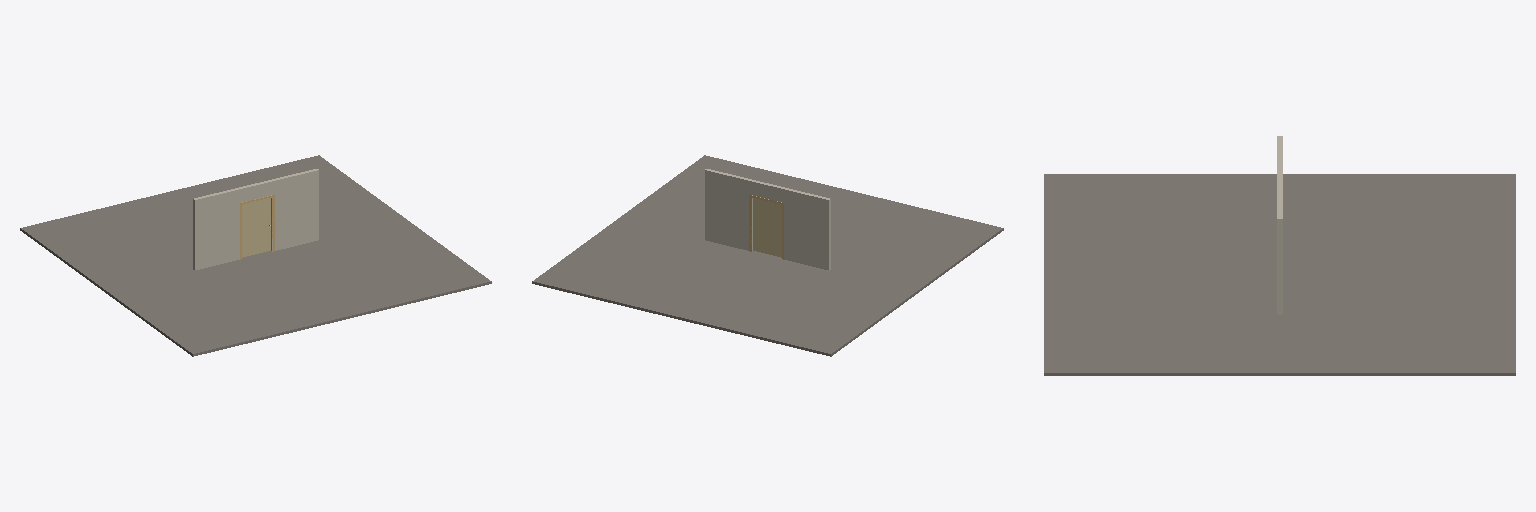
URDF robot description (db0249_accordion_full):
<?xml version="1.0" ?>
<robot xmlns:doorbench="https://github.com/adamraudonis/DoorBench/schema/urdf-ext" name="db0249_accordion_full">
  <link name="world_env">
    <visual name="floor_vis">
      <origin xyz="0 0 -0.05" rpy="0 0 0"/>
      <geometry>
        <box size="12 12 0.1"/>
      </geometry>
      <material name="mat_floor"/>
    </visual>
    <collision name="floor_col">
      <origin xyz="0 0 -0.05" rpy="0 0 0"/>
      <geometry>
        <box size="12 12 0.1"/>
      </geometry>
    </collision>
    <visual name="wall_left_vis">
      <origin xyz="-1.55825 0 1.35" rpy="0 0 0"/>
      <geometry>
        <box size="1.8835 0.145 2.7"/>
      </geometry>
      <material name="mat_wall"/>
    </visual>
    <collision name="wall_left_col">
      <origin xyz="-1.55825 0 1.35" rpy="0 0 0"/>
      <geometry>
        <box size="1.8835 0.145 2.7"/>
      </geometry>
    </collision>
    <visual name="wall_right_vis">
      <origin xyz="1.55825 0 1.35" rpy="0 0 0"/>
      <geometry>
        <box size="1.8835 0.145 2.7"/>
      </geometry>
      <material name="mat_wall"/>
    </visual>
    <collision name="wall_right_col">
      <origin xyz="1.55825 0 1.35" rpy="0 0 0"/>
      <geometry>
        <box size="1.8835 0.145 2.7"/>
      </geometry>
    </collision>
    <visual name="wall_header_vis">
      <origin xyz="0 0 2.3935" rpy="0 0 0"/>
      <geometry>
        <box size="1.233 0.145 0.613"/>
      </geometry>
      <material name="mat_wall"/>
    </visual>
    <collision name="wall_header_col">
      <origin xyz="0 0 2.3935" rpy="0 0 0"/>
      <geometry>
        <box size="1.233 0.145 0.613"/>
      </geometry>
    </collision>
    <visual name="jamb_hinge_vis">
      <origin xyz="-0.626 0 1.0435" rpy="0 0 0"/>
      <geometry>
        <box size="0.019 0.145 2.087"/>
      </geometry>
      <material name="mat_frame"/>
    </visual>
    <collision name="jamb_hinge_col">
      <origin xyz="-0.626 0 1.0435" rpy="0 0 0"/>
      <geometry>
        <box size="0.019 0.145 2.087"/>
      </geometry>
    </collision>
    <visual name="jamb_strike_vis">
      <origin xyz="0.626 0 1.0435" rpy="0 0 0"/>
      <geometry>
        <box size="0.019 0.145 2.087"/>
      </geometry>
      <material name="mat_frame"/>
    </visual>
    <collision name="jamb_strike_col">
      <origin xyz="0.626 0 1.0435" rpy="0 0 0"/>
      <geometry>
        <box size="0.019 0.145 2.087"/>
      </geometry>
    </collision>
    <visual name="stud_strike_vis">
      <origin xyz="0.6505 0 1.0435" rpy="0 0 0"/>
      <geometry>
        <box size="0.03 0.145 2.087"/>
      </geometry>
      <material name="mat_wall"/>
    </visual>
    <collision name="stud_strike_col">
      <origin xyz="0.6505 0 1.0435" rpy="0 0 0"/>
      <geometry>
        <box size="0.03 0.145 2.087"/>
      </geometry>
    </collision>
    <visual name="jamb_head_vis">
      <origin xyz="0.015 0 2.0965" rpy="0 0 0"/>
      <geometry>
        <box size="1.301 0.145 0.019"/>
      </geometry>
      <material name="mat_frame"/>
    </visual>
    <collision name="jamb_head_col">
      <origin xyz="0.015 0 2.0965" rpy="0 0 0"/>
      <geometry>
        <box size="1.301 0.145 0.019"/>
      </geometry>
    </collision>
    <visual name="head_stud_vis">
      <origin xyz="0.015 0 2.121" rpy="0 0 0"/>
      <geometry>
        <box size="1.301 0.145 0.03"/>
      </geometry>
      <material name="mat_wall"/>
    </visual>
    <collision name="head_stud_col">
      <origin xyz="0.015 0 2.121" rpy="0 0 0"/>
      <geometry>
        <box size="1.301 0.145 0.03"/>
      </geometry>
    </collision>
    <visual name="casing_l_n_vis">
      <origin xyz="-0.6655 -0.0805 1.0435" rpy="0 0 0"/>
      <geometry>
        <box size="0.07 0.016 2.106"/>
      </geometry>
      <material name="mat_frame"/>
    </visual>
    <visual name="casing_r_n_vis">
      <origin xyz="0.6655 -0.0805 1.0435" rpy="0 0 0"/>
      <geometry>
        <box size="0.07 0.016 2.106"/>
      </geometry>
      <material name="mat_frame"/>
    </visual>
    <visual name="casing_h_n_vis">
      <origin xyz="0 -0.0805 2.136" rpy="0 0 0"/>
      <geometry>
        <box size="1.401 0.016 0.07"/>
      </geometry>
      <material name="mat_frame"/>
    </visual>
    <visual name="casing_l_p_vis">
      <origin xyz="-0.6655 0.0805 1.0435" rpy="0 0 0"/>
      <geometry>
        <box size="0.07 0.016 2.106"/>
      </geometry>
      <material name="mat_frame"/>
    </visual>
    <visual name="casing_r_p_vis">
      <origin xyz="0.6655 0.0805 1.0435" rpy="0 0 0"/>
      <geometry>
        <box size="0.07 0.016 2.106"/>
      </geometry>
      <material name="mat_frame"/>
    </visual>
    <visual name="casing_h_p_vis">
      <origin xyz="0 0.0805 2.136" rpy="0 0 0"/>
      <geometry>
        <box size="1.401 0.016 0.07"/>
      </geometry>
      <material name="mat_frame"/>
    </visual>
    <visual name="fold_track_vis">
      <origin xyz="0 0 2.072" rpy="0 0 0"/>
      <geometry>
        <box size="1.233 0.04 0.03"/>
      </geometry>
      <material name="mat_track"/>
    </visual>
  </link>
  <link name="panel_0_0">
    <inertial>
      <origin xyz="0.026999 0 1.054532" rpy="0 0 0"/>
      <mass value="2.596771"/>
      <inertia ixx="0.925279629" ixy="0" ixz="0.001299257" iyy="0.928093869" iyz="0" izz="0.002876941"/>
    </inertial>
    <visual name="panel_0_0_slab_vis">
      <origin xyz="0.0275 0 1.036" rpy="0 0 0"/>
      <geometry>
        <box size="0.115 0.012 2.032"/>
      </geometry>
      <material name="mat_panel_0_0"/>
    </visual>
    <collision name="panel_0_0_slab_col">
      <origin xyz="0.0275 0 1.036" rpy="0 0 0"/>
      <geometry>
        <box size="0.115 0.012 2.032"/>
      </geometry>
    </collision>
    <visual name="panel_0_0_pivot_pin_vis">
      <origin xyz="0 0 2.0525" rpy="0 0 0"/>
      <geometry>
        <cylinder radius="0.008" length="0.021"/>
      </geometry>
      <material name="mat_hinge"/>
    </visual>
  </link>
  <link name="panel_0_1">
    <inertial>
      <origin xyz="0.000174 -0.000017 1.036" rpy="0 0 0"/>
      <mass value="2.77886"/>
      <inertia ixx="0.937503503" ixy="0.000002896" ixz="0" iyy="0.937541771" iyz="0" izz="0.000067084"/>
    </inertial>
    <visual name="panel_0_1_slab_vis">
      <origin xyz="0.061 -0.006 1.036" rpy="0 0 0"/>
      <geometry>
        <box size="0.118 0.012 2.032"/>
      </geometry>
      <material name="mat_panel_0_1"/>
    </visual>
    <collision name="panel_0_1_slab_col">
      <origin xyz="0.061 -0.006 1.036" rpy="0 0 0"/>
      <geometry>
        <box size="0.118 0.012 2.032"/>
      </geometry>
    </collision>
    <visual name="panel_0_1_knuckle_vis">
      <origin xyz="0 0 1.036" rpy="0 0 0"/>
      <geometry>
        <cylinder radius="0.0045" length="2.012"/>
      </geometry>
      <material name="mat_hinge"/>
    </visual>
  </link>
  <link name="panel_0_2">
    <inertial>
      <origin xyz="0.000174 0.000017 1.036" rpy="0 0 0"/>
      <mass value="2.77886"/>
      <inertia ixx="0.937503503" ixy="-0.000002896" ixz="0" iyy="0.937541771" iyz="0" izz="0.000067084"/>
    </inertial>
    <visual name="panel_0_2_slab_vis">
      <origin xyz="0.061 0.006 1.036" rpy="0 0 0"/>
      <geometry>
        <box size="0.118 0.012 2.032"/>
      </geometry>
      <material name="mat_panel_0_2"/>
    </visual>
    <collision name="panel_0_2_slab_col">
      <origin xyz="0.061 0.006 1.036" rpy="0 0 0"/>
      <geometry>
        <box size="0.118 0.012 2.032"/>
      </geometry>
    </collision>
    <visual name="panel_0_2_knuckle_vis">
      <origin xyz="0 0 1.036" rpy="0 0 0"/>
      <geometry>
        <cylinder radius="0.0045" length="2.012"/>
      </geometry>
      <material name="mat_hinge"/>
    </visual>
  </link>
  <link name="panel_0_3">
    <inertial>
      <origin xyz="0.000174 -0.000017 1.036" rpy="0 0 0"/>
      <mass value="2.77886"/>
      <inertia ixx="0.937503503" ixy="0.000002896" ixz="0" iyy="0.937541771" iyz="0" izz="0.000067084"/>
    </inertial>
    <visual name="panel_0_3_slab_vis">
      <origin xyz="0.061 -0.006 1.036" rpy="0 0 0"/>
      <geometry>
        <box size="0.118 0.012 2.032"/>
      </geometry>
      <material name="mat_panel_0_3"/>
    </visual>
    <collision name="panel_0_3_slab_col">
      <origin xyz="0.061 -0.006 1.036" rpy="0 0 0"/>
      <geometry>
        <box size="0.118 0.012 2.032"/>
      </geometry>
    </collision>
    <visual name="panel_0_3_knuckle_vis">
      <origin xyz="0 0 1.036" rpy="0 0 0"/>
      <geometry>
        <cylinder radius="0.0045" length="2.012"/>
      </geometry>
      <material name="mat_hinge"/>
    </visual>
  </link>
  <link name="panel_0_4">
    <inertial>
      <origin xyz="0.000174 0.000017 1.036" rpy="0 0 0"/>
      <mass value="2.77886"/>
      <inertia ixx="0.937503503" ixy="-0.000002896" ixz="0" iyy="0.937541771" iyz="0" izz="0.000067084"/>
    </inertial>
    <visual name="panel_0_4_slab_vis">
      <origin xyz="0.061 0.006 1.036" rpy="0 0 0"/>
      <geometry>
        <box size="0.118 0.012 2.032"/>
      </geometry>
      <material name="mat_panel_0_4"/>
    </visual>
    <collision name="panel_0_4_slab_col">
      <origin xyz="0.061 0.006 1.036" rpy="0 0 0"/>
      <geometry>
        <box size="0.118 0.012 2.032"/>
      </geometry>
    </collision>
    <visual name="panel_0_4_knuckle_vis">
      <origin xyz="0 0 1.036" rpy="0 0 0"/>
      <geometry>
        <cylinder radius="0.0045" length="2.012"/>
      </geometry>
      <material name="mat_hinge"/>
    </visual>
  </link>
  <link name="panel_0_5">
    <inertial>
      <origin xyz="0.000174 -0.000017 1.036" rpy="0 0 0"/>
      <mass value="2.77886"/>
      <inertia ixx="0.937503503" ixy="0.000002896" ixz="0" iyy="0.937541771" iyz="0" izz="0.000067084"/>
    </inertial>
    <visual name="panel_0_5_slab_vis">
      <origin xyz="0.061 -0.006 1.036" rpy="0 0 0"/>
      <geometry>
        <box size="0.118 0.012 2.032"/>
      </geometry>
      <material name="mat_panel_0_5"/>
    </visual>
    <collision name="panel_0_5_slab_col">
      <origin xyz="0.061 -0.006 1.036" rpy="0 0 0"/>
      <geometry>
        <box size="0.118 0.012 2.032"/>
      </geometry>
    </collision>
    <visual name="panel_0_5_knuckle_vis">
      <origin xyz="0 0 1.036" rpy="0 0 0"/>
      <geometry>
        <cylinder radius="0.0045" length="2.012"/>
      </geometry>
      <material name="mat_hinge"/>
    </visual>
  </link>
  <link name="panel_0_6">
    <inertial>
      <origin xyz="0.000174 0.000017 1.036" rpy="0 0 0"/>
      <mass value="2.77886"/>
      <inertia ixx="0.937503503" ixy="-0.000002896" ixz="0" iyy="0.937541771" iyz="0" izz="0.000067084"/>
    </inertial>
    <visual name="panel_0_6_slab_vis">
      <origin xyz="0.061 0.006 1.036" rpy="0 0 0"/>
      <geometry>
        <box size="0.118 0.012 2.032"/>
      </geometry>
      <material name="mat_panel_0_6"/>
    </visual>
    <collision name="panel_0_6_slab_col">
      <origin xyz="0.061 0.006 1.036" rpy="0 0 0"/>
      <geometry>
        <box size="0.118 0.012 2.032"/>
      </geometry>
    </collision>
    <visual name="panel_0_6_knuckle_vis">
      <origin xyz="0 0 1.036" rpy="0 0 0"/>
      <geometry>
        <cylinder radius="0.0045" length="2.012"/>
      </geometry>
      <material name="mat_hinge"/>
    </visual>
  </link>
  <link name="panel_0_7">
    <inertial>
      <origin xyz="0.000174 -0.000017 1.036" rpy="0 0 0"/>
      <mass value="2.77886"/>
      <inertia ixx="0.937503503" ixy="0.000002896" ixz="0" iyy="0.937541771" iyz="0" izz="0.000067084"/>
    </inertial>
    <visual name="panel_0_7_slab_vis">
      <origin xyz="0.061 -0.006 1.036" rpy="0 0 0"/>
      <geometry>
        <box size="0.118 0.012 2.032"/>
      </geometry>
      <material name="mat_panel_0_7"/>
    </visual>
    <collision name="panel_0_7_slab_col">
      <origin xyz="0.061 -0.006 1.036" rpy="0 0 0"/>
      <geometry>
        <box size="0.118 0.012 2.032"/>
      </geometry>
    </collision>
    <visual name="panel_0_7_knuckle_vis">
      <origin xyz="0 0 1.036" rpy="0 0 0"/>
      <geometry>
        <cylinder radius="0.0045" length="2.012"/>
      </geometry>
      <material name="mat_hinge"/>
    </visual>
  </link>
  <link name="panel_0_8">
    <inertial>
      <origin xyz="0.000174 0.000017 1.036" rpy="0 0 0"/>
      <mass value="2.77886"/>
      <inertia ixx="0.937503503" ixy="-0.000002896" ixz="0" iyy="0.937541771" iyz="0" izz="0.000067084"/>
    </inertial>
    <visual name="panel_0_8_slab_vis">
      <origin xyz="0.061 0.006 1.036" rpy="0 0 0"/>
      <geometry>
        <box size="0.118 0.012 2.032"/>
      </geometry>
      <material name="mat_panel_0_8"/>
    </visual>
    <collision name="panel_0_8_slab_col">
      <origin xyz="0.061 0.006 1.036" rpy="0 0 0"/>
      <geometry>
        <box size="0.118 0.012 2.032"/>
      </geometry>
    </collision>
    <visual name="panel_0_8_knuckle_vis">
      <origin xyz="0 0 1.036" rpy="0 0 0"/>
      <geometry>
        <cylinder radius="0.0045" length="2.012"/>
      </geometry>
      <material name="mat_hinge"/>
    </visual>
  </link>
  <link name="panel_0_9">
    <inertial>
      <origin xyz="0.009921 -0.003892 1.031413" rpy="0 0 0"/>
      <mass value="2.971433"/>
      <inertia ixx="0.875544668" ixy="0.000769833" ixz="0.00090795" iyy="0.87717932" iyz="-0.000361639" izz="0.002379473"/>
    </inertial>
    <visual name="panel_0_9_slab_vis">
      <origin xyz="0.064265 -0.006 1.036" rpy="0 0 0"/>
      <geometry>
        <box size="0.124529 0.012 2.032"/>
      </geometry>
      <material name="mat_panel_0_9"/>
    </visual>
    <collision name="panel_0_9_slab_col">
      <origin xyz="0.064265 -0.006 1.036" rpy="0 0 0"/>
      <geometry>
        <box size="0.124529 0.012 2.032"/>
      </geometry>
    </collision>
    <visual name="panel_0_9_knuckle_vis">
      <origin xyz="0 0 1.036" rpy="0 0 0"/>
      <geometry>
        <cylinder radius="0.0045" length="2.012"/>
      </geometry>
      <material name="mat_hinge"/>
    </visual>
    <visual name="panel_0_9_knob_vis">
      <origin xyz="0.076529 -0.012 1" rpy="1.570796 0 0"/>
      <geometry>
        <mesh filename="../../hardware/knob_13f7a2a65f.obj"/>
      </geometry>
      <material name="mat_op_nickel_satin"/>
    </visual>
    <visual name="panel_0_9_knob_col_vis">
      <origin xyz="0.076529 -0.042 1" rpy="0 0 0"/>
      <geometry>
        <sphere radius="0.016"/>
      </geometry>
      <material name="mat_op_nickel_satin"/>
    </visual>
    <collision name="panel_0_9_knob_col_col">
      <origin xyz="0.076529 -0.042 1" rpy="0 0 0"/>
      <geometry>
        <sphere radius="0.016"/>
      </geometry>
    </collision>
    <visual name="panel_0_9_knob_rose_vis">
      <origin xyz="0.076529 -0.017 1" rpy="-1.570796 0 0"/>
      <geometry>
        <cylinder radius="0.022" length="0.01"/>
      </geometry>
      <material name="mat_op_nickel_satin"/>
    </visual>
  </link>
  <joint name="panel_0_0_hinge" type="revolute">
    <origin xyz="-0.5815 0 0" rpy="0 0 0"/>
    <parent link="world_env"/>
    <child link="panel_0_0"/>
    <axis xyz="0 0 -1"/>
    <limit lower="0" upper="1.48353" effort="2000" velocity="10"/>
    <dynamics damping="0.877991" friction="6.642782"/>
  </joint>
  <joint name="panel_0_1_hinge" type="revolute">
    <origin xyz="0.087 0.006 0" rpy="0 0 0"/>
    <parent link="panel_0_0"/>
    <child link="panel_0_1"/>
    <axis xyz="0 0 -1"/>
    <limit lower="-3.141593" upper="0" effort="2000" velocity="10"/>
    <dynamics damping="0.2" friction="0.1"/>
    <mimic joint="panel_0_0_hinge" multiplier="-2" offset="0"/>
  </joint>
  <joint name="panel_0_2_hinge" type="revolute">
    <origin xyz="0.122 -0.012 0" rpy="0 0 0"/>
    <parent link="panel_0_1"/>
    <child link="panel_0_2"/>
    <axis xyz="0 0 -1"/>
    <limit lower="0" upper="3.141593" effort="2000" velocity="10"/>
    <dynamics damping="0.2" friction="0.1"/>
    <mimic joint="panel_0_0_hinge" multiplier="2" offset="0"/>
  </joint>
  <joint name="panel_0_3_hinge" type="revolute">
    <origin xyz="0.122 0.012 0" rpy="0 0 0"/>
    <parent link="panel_0_2"/>
    <child link="panel_0_3"/>
    <axis xyz="0 0 -1"/>
    <limit lower="-3.141593" upper="0" effort="2000" velocity="10"/>
    <dynamics damping="0.2" friction="0.1"/>
    <mimic joint="panel_0_0_hinge" multiplier="-2" offset="0"/>
  </joint>
  <joint name="panel_0_4_hinge" type="revolute">
    <origin xyz="0.122 -0.012 0" rpy="0 0 0"/>
    <parent link="panel_0_3"/>
    <child link="panel_0_4"/>
    <axis xyz="0 0 -1"/>
    <limit lower="0" upper="3.141593" effort="2000" velocity="10"/>
    <dynamics damping="0.2" friction="0.1"/>
    <mimic joint="panel_0_0_hinge" multiplier="2" offset="0"/>
  </joint>
  <joint name="panel_0_5_hinge" type="revolute">
    <origin xyz="0.122 0.012 0" rpy="0 0 0"/>
    <parent link="panel_0_4"/>
    <child link="panel_0_5"/>
    <axis xyz="0 0 -1"/>
    <limit lower="-3.141593" upper="0" effort="2000" velocity="10"/>
    <dynamics damping="0.2" friction="0.1"/>
    <mimic joint="panel_0_0_hinge" multiplier="-2" offset="0"/>
  </joint>
  <joint name="panel_0_6_hinge" type="revolute">
    <origin xyz="0.122 -0.012 0" rpy="0 0 0"/>
    <parent link="panel_0_5"/>
    <child link="panel_0_6"/>
    <axis xyz="0 0 -1"/>
    <limit lower="0" upper="3.141593" effort="2000" velocity="10"/>
    <dynamics damping="0.2" friction="0.1"/>
    <mimic joint="panel_0_0_hinge" multiplier="2" offset="0"/>
  </joint>
  <joint name="panel_0_7_hinge" type="revolute">
    <origin xyz="0.122 0.012 0" rpy="0 0 0"/>
    <parent link="panel_0_6"/>
    <child link="panel_0_7"/>
    <axis xyz="0 0 -1"/>
    <limit lower="-3.141593" upper="0" effort="2000" velocity="10"/>
    <dynamics damping="0.2" friction="0.1"/>
    <mimic joint="panel_0_0_hinge" multiplier="-2" offset="0"/>
  </joint>
  <joint name="panel_0_8_hinge" type="revolute">
    <origin xyz="0.122 -0.012 0" rpy="0 0 0"/>
    <parent link="panel_0_7"/>
    <child link="panel_0_8"/>
    <axis xyz="0 0 -1"/>
    <limit lower="0" upper="3.141593" effort="2000" velocity="10"/>
    <dynamics damping="0.2" friction="0.1"/>
    <mimic joint="panel_0_0_hinge" multiplier="2" offset="0"/>
  </joint>
  <joint name="panel_0_9_hinge" type="revolute">
    <origin xyz="0.122 0.012 0" rpy="0 0 0"/>
    <parent link="panel_0_8"/>
    <child link="panel_0_9"/>
    <axis xyz="0 0 -1"/>
    <limit lower="-3.141593" upper="0" effort="2000" velocity="10"/>
    <dynamics damping="0.2" friction="0.1"/>
    <mimic joint="panel_0_0_hinge" multiplier="-2" offset="0"/>
  </joint>
  <material name="mat_floor">
    <color rgba="0.55 0.53 0.5 1"/>
  </material>
  <material name="mat_frame">
    <color rgba="0.82 0.7 0.5 1"/>
  </material>
  <material name="mat_hinge">
    <color rgba="0.65 0.66 0.68 1"/>
  </material>
  <material name="mat_op_nickel_satin">
    <color rgba="0.72 0.7 0.66 1"/>
  </material>
  <material name="mat_panel_0_0">
    <color rgba="0.8 0.75 0.6 1"/>
  </material>
  <material name="mat_panel_0_1">
    <color rgba="0.8 0.75 0.6 1"/>
  </material>
  <material name="mat_panel_0_2">
    <color rgba="0.8 0.75 0.6 1"/>
  </material>
  <material name="mat_panel_0_3">
    <color rgba="0.8 0.75 0.6 1"/>
  </material>
  <material name="mat_panel_0_4">
    <color rgba="0.8 0.75 0.6 1"/>
  </material>
  <material name="mat_panel_0_5">
    <color rgba="0.8 0.75 0.6 1"/>
  </material>
  <material name="mat_panel_0_6">
    <color rgba="0.8 0.75 0.6 1"/>
  </material>
  <material name="mat_panel_0_7">
    <color rgba="0.8 0.75 0.6 1"/>
  </material>
  <material name="mat_panel_0_8">
    <color rgba="0.8 0.75 0.6 1"/>
  </material>
  <material name="mat_panel_0_9">
    <color rgba="0.8 0.75 0.6 1"/>
  </material>
  <material name="mat_track">
    <color rgba="0.8 0.81 0.83 1"/>
  </material>
  <material name="mat_wall">
    <color rgba="0.78 0.76 0.7 1"/>
  </material>
</robot>

--- Facts derived from the render (not from the file) ---
The picture shows the robot from 3 angles, left to right: view 1: azimuth 30°, elevation 25°; view 2: azimuth 150°, elevation 25°; view 3: azimuth 270°, elevation 25°; orthographic projection.
Robot: db0249_accordion_full — 11 links, 10 joints (10 revolute); root link world_env; default pose: all joints at 0.
Visible links, largest first — view 1: world_env; view 2: world_env; view 3: world_env.
Link boxes in pixels (x1=…): world_env: x1=20, y1=155, x2=491, y2=356; world_env: x1=532, y1=155, x2=1003, y2=356; world_env: x1=1044, y1=136, x2=1515, y2=375.
Bounding box of the posed robot: 12 × 12 × 2.8 m (x, y, z).
1 mesh visuals loaded from 1 distinct referenced files (1 OBJ).
